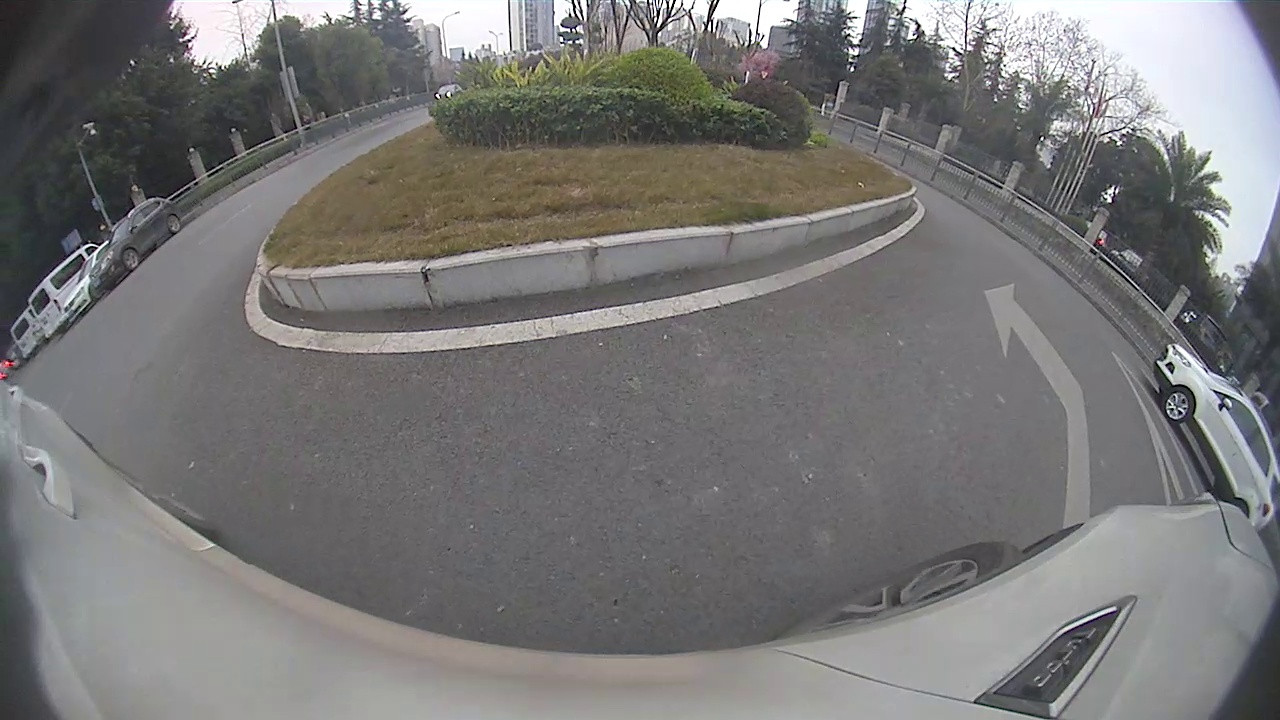car: (1152, 343, 1276, 534), (93, 196, 181, 294), (28, 244, 103, 338)
front: (1163, 384, 1194, 424), (121, 250, 141, 270)
rear: (164, 213, 182, 234)
